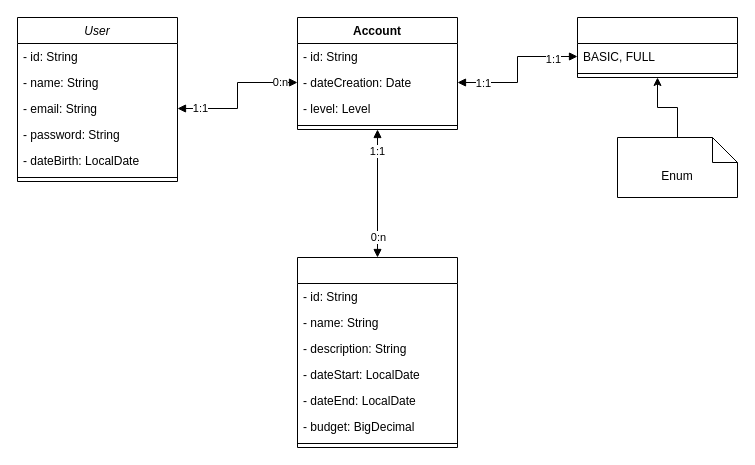
Some shapes in this 755 by 465 pixel diagram are drawn without their labels. Here are the shapes that lost their labels. From the top down, the box of each, then its label:
(576, 16, 738, 78): Level
(296, 256, 458, 448): Project
